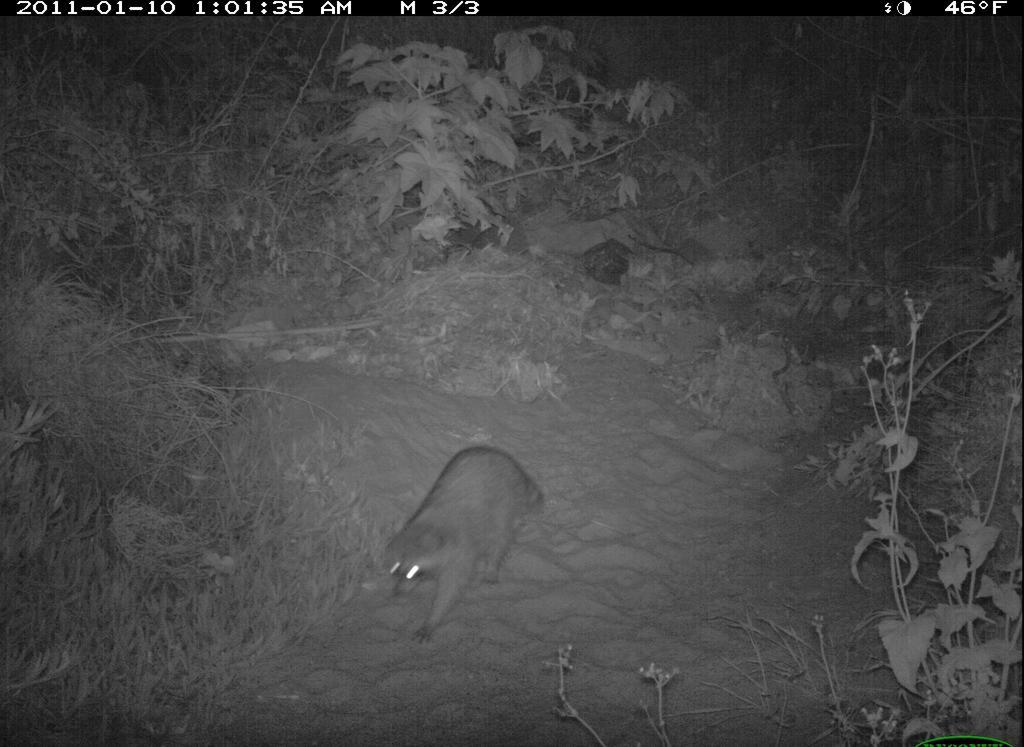raccoon: (371, 436, 552, 659)
